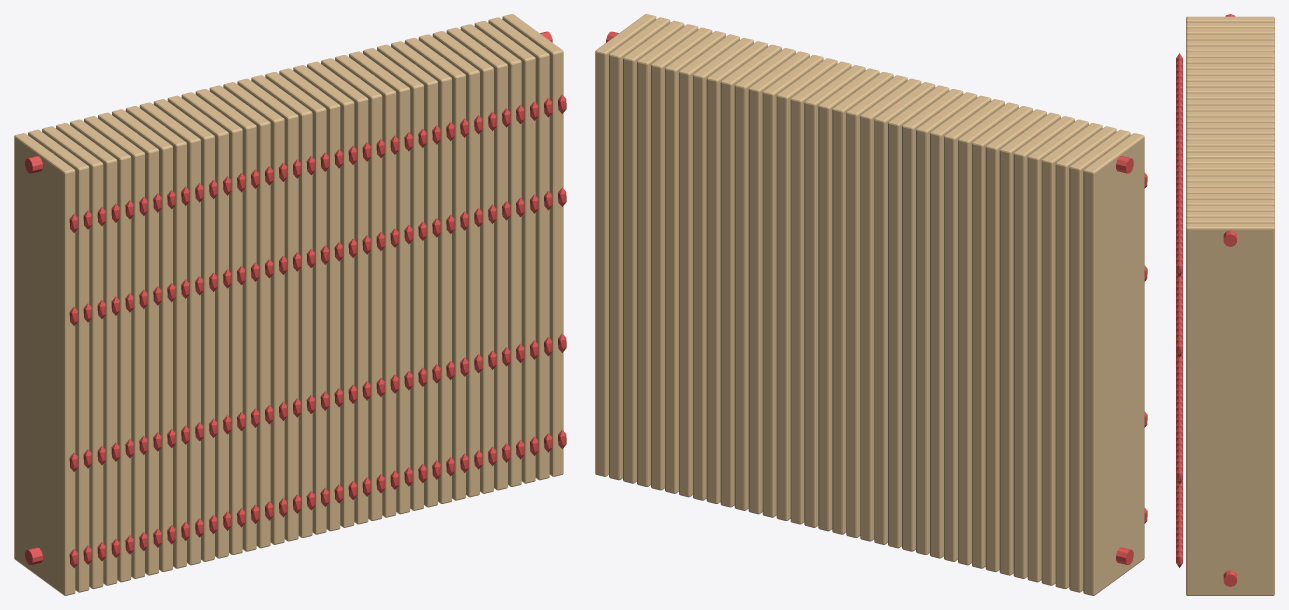
The model's file is buyo_folk_binzasara.glb.
3 renders of one model, left to right at view 1: azimuth 30°, elevation 25°; view 2: azimuth 150°, elevation 25°; view 3: azimuth 270°, elevation 25°, orthographic. The views are drawn at different scales.
Parts seen in each view (by area): view 1: Thirty-six individual binzasara wooden slat, Thirty-six individual binzasara wooden slat.034, Thirty-six individual binzasara wooden slat.014, Thirty-six individual binzasara wooden slat.016, Thirty-six individual binzasara wooden slat.013, Thirty-six individual binzasara wooden slat.033, Thirty-six individual binzasara wooden slat.015, Thirty-six individual binzasara wooden slat.035, Thirty-six individual binzasara wooden slat.018, Thirty-six individual binzasara wooden slat.017, Thirty-six individual binzasara wooden slat.002, Thirty-six individual binzasara wooden slat.020 (+24 smaller); view 2: Thirty-six individual binzasara wooden slat, Thirty-six individual binzasara wooden slat.001, Thirty-six individual binzasara wooden slat.004, Thirty-six individual binzasara wooden slat.016, Thirty-six individual binzasara wooden slat.019, Thirty-six individual binzasara wooden slat.021, Thirty-six individual binzasara wooden slat.006, Thirty-six individual binzasara wooden slat.007, Thirty-six individual binzasara wooden slat.002, Thirty-six individual binzasara wooden slat.018, Thirty-six individual binzasara wooden slat.003, Thirty-six individual binzasara wooden slat.023 (+24 smaller); view 3: Thirty-six individual binzasara wooden slat.035, Thirty-six individual binzasara wooden slat.002, Thirty-six individual binzasara wooden slat.004, Thirty-six individual binzasara wooden slat.010, Thirty-six individual binzasara wooden slat.011, Thirty-six individual binzasara wooden slat.014, Thirty-six individual binzasara wooden slat.015, Thirty-six individual binzasara wooden slat.021, Thirty-six individual binzasara wooden slat.022, Thirty-six individual binzasara wooden slat.025, Thirty-six individual binzasara wooden slat.033, Thirty-six individual binzasara wooden slat.034 (+26 smaller).
Part boxes in pixels (x1,y1,x2,y2): Thirty-six individual binzasara wooden slat: (14, 133, 75, 595); Thirty-six individual binzasara wooden slat.034: (488, 17, 549, 480); Thirty-six individual binzasara wooden slat.014: (209, 85, 270, 548); Thirty-six individual binzasara wooden slat.016: (237, 78, 298, 541); Thirty-six individual binzasara wooden slat.013: (195, 89, 256, 551); Thirty-six individual binzasara wooden slat.033: (474, 20, 535, 483); Thirty-six individual binzasara wooden slat.015: (223, 82, 284, 544); Thirty-six individual binzasara wooden slat.035: (502, 14, 563, 476); Thirty-six individual binzasara wooden slat.018: (265, 72, 326, 534); Thirty-six individual binzasara wooden slat.017: (251, 75, 312, 537); Thirty-six individual binzasara wooden slat.002: (42, 126, 103, 589); Thirty-six individual binzasara wooden slat.020: (293, 65, 354, 527); Thirty-six individual binzasara wooden slat: (1083, 133, 1144, 595); Thirty-six individual binzasara wooden slat.001: (1069, 129, 1130, 592); Thirty-six individual binzasara wooden slat.004: (1027, 119, 1088, 582); Thirty-six individual binzasara wooden slat.016: (860, 78, 921, 541); Thirty-six individual binzasara wooden slat.019: (818, 68, 879, 531); Thirty-six individual binzasara wooden slat.021: (790, 61, 851, 524); Thirty-six individual binzasara wooden slat.006: (999, 112, 1060, 575); Thirty-six individual binzasara wooden slat.007: (985, 109, 1046, 572); Thirty-six individual binzasara wooden slat.002: (1055, 126, 1116, 589); Thirty-six individual binzasara wooden slat.018: (832, 72, 893, 534); Thirty-six individual binzasara wooden slat.003: (1041, 123, 1102, 585); Thirty-six individual binzasara wooden slat.023: (762, 55, 823, 517); Thirty-six individual binzasara wooden slat.035: (1186, 223, 1274, 595); Thirty-six individual binzasara wooden slat.002: (1186, 28, 1274, 35); Thirty-six individual binzasara wooden slat.004: (1186, 40, 1274, 46); Thirty-six individual binzasara wooden slat.010: (1186, 75, 1274, 82); Thirty-six individual binzasara wooden slat.011: (1186, 81, 1274, 88); Thirty-six individual binzasara wooden slat.014: (1186, 99, 1274, 106); Thirty-six individual binzasara wooden slat.015: (1186, 105, 1274, 111); Thirty-six individual binzasara wooden slat.021: (1186, 140, 1274, 147); Thirty-six individual binzasara wooden slat.022: (1186, 146, 1274, 153); Thirty-six individual binzasara wooden slat.025: (1186, 164, 1274, 171); Thirty-six individual binzasara wooden slat.033: (1186, 211, 1274, 218); Thirty-six individual binzasara wooden slat.034: (1186, 217, 1274, 224).
Bounding box in the file's own units: 1.95 × 1.52 × 0.3699.
